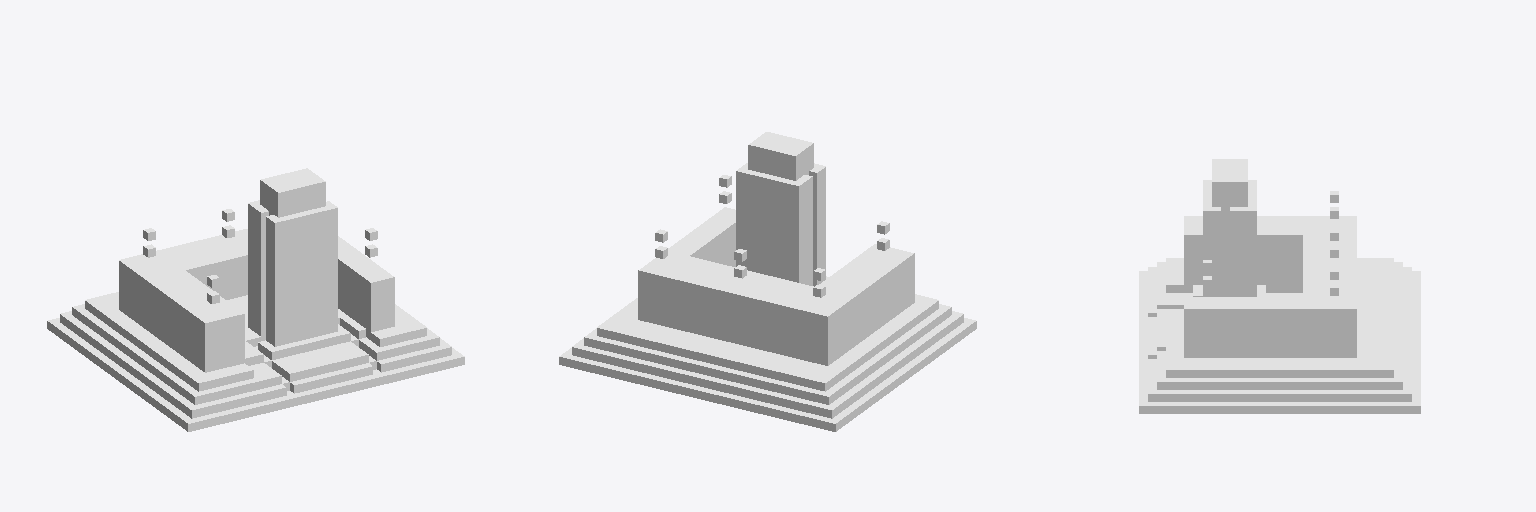
The model's file is lightbar.obj.
3 renders of one model, left to right at view 1: azimuth 30°, elevation 25°; view 2: azimuth 150°, elevation 25°; view 3: azimuth 270°, elevation 25°, orthographic.
Parts seen in each view (by area): view 1: lightbar; view 2: lightbar; view 3: lightbar.
Boxes of the visible parts, x1=… form: lightbar: x1=47, y1=168, x2=464, y2=431; lightbar: x1=559, y1=132, x2=976, y2=431; lightbar: x1=1139, y1=159, x2=1420, y2=413.
Size of the model in its own units: 35 by 22 by 31.